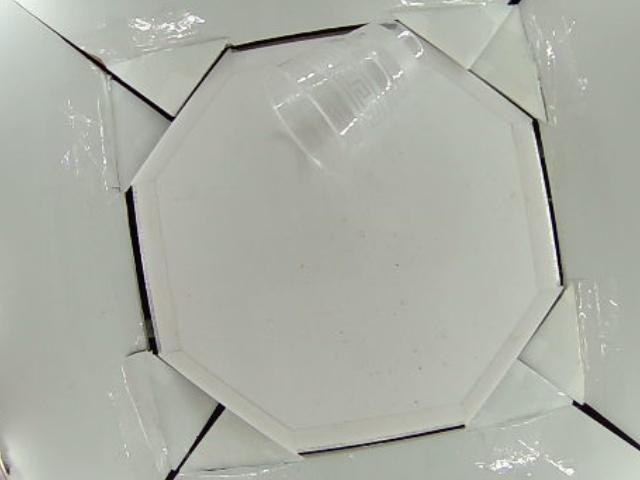Cup: (262, 20, 423, 170)
